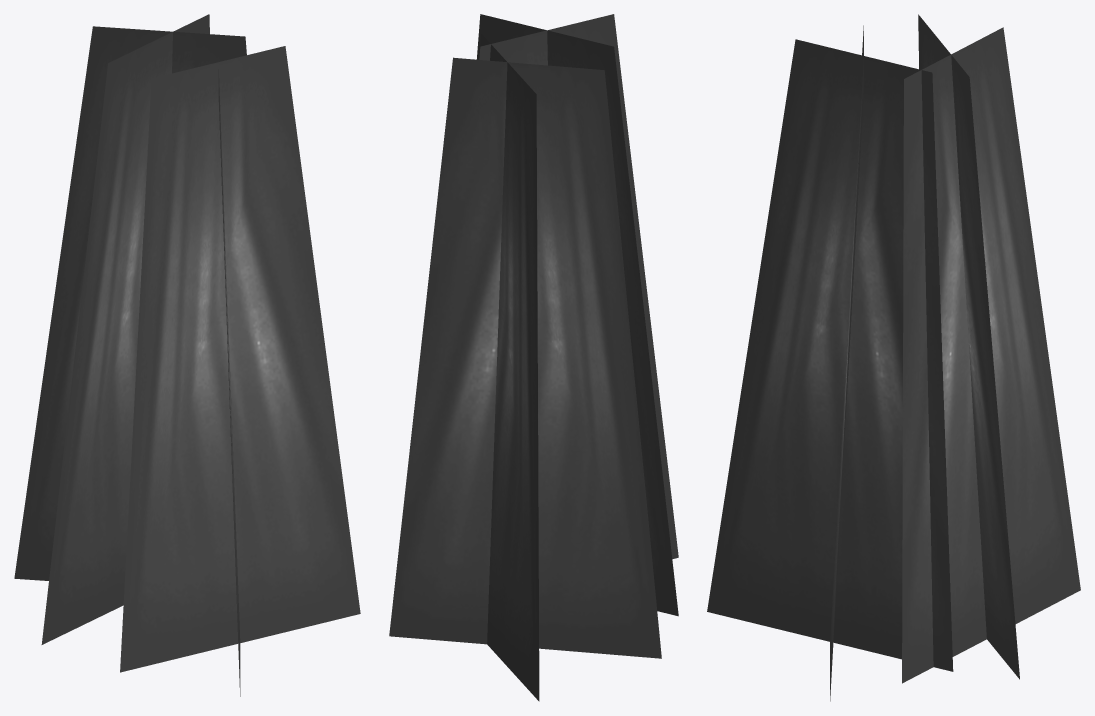
File: rays1_2sided.fbx
3 renders of one model, left to right at view 1: azimuth 30°, elevation 25°; view 2: azimuth 150°, elevation 25°; view 3: azimuth 270°, elevation 25°, orthographic. The views are drawn at different scales.
Parts seen in each view (by area): view 1: Default_Layer; view 2: Default_Layer; view 3: Default_Layer.
Part boxes in pixels (x1,y1,x2,y2): Default_Layer: (14,14,360,696); Default_Layer: (389,14,678,701); Default_Layer: (707,14,1080,701).
Size of the model in its own units: 1342 by 2694 by 1565.
